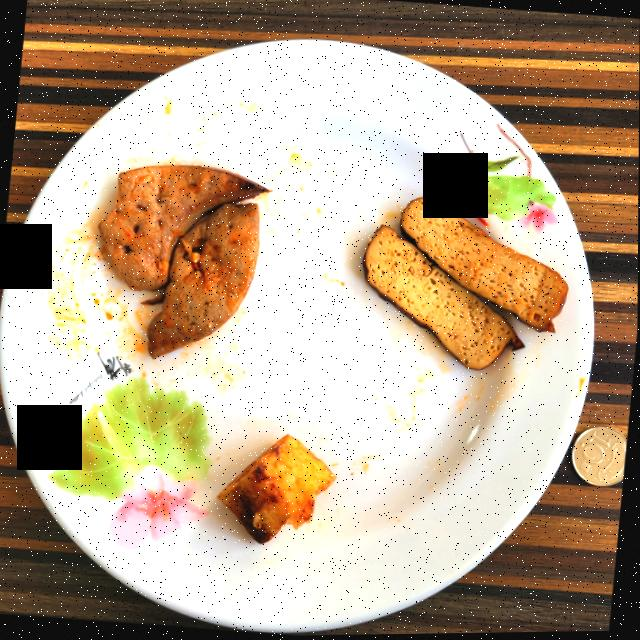coin: (572, 426, 627, 487)
firm tofu: (364, 197, 568, 370)
fried potato: (218, 435, 336, 543)
pig liver: (98, 164, 268, 357)
